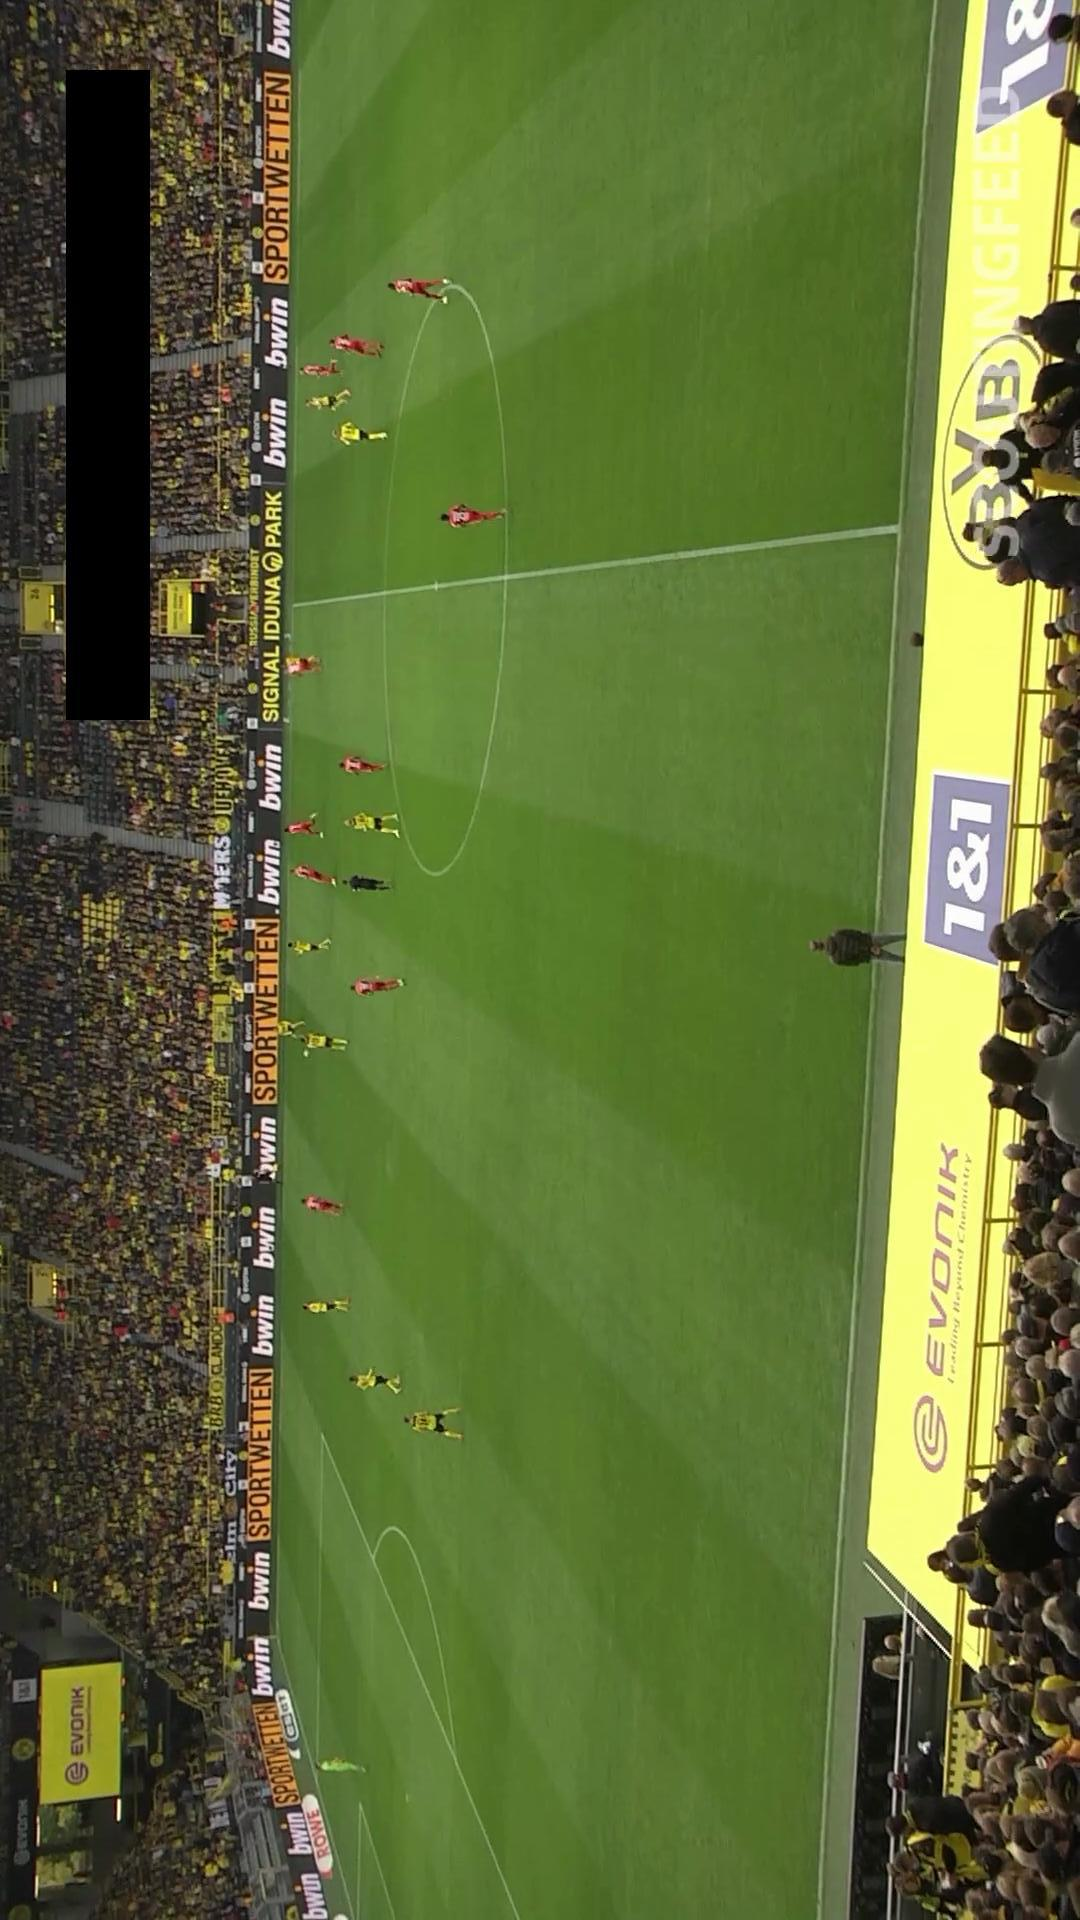ball: (302, 1049, 311, 1058)
goalkeeper: (314, 1755, 368, 1774)
player: (402, 1406, 463, 1441), (438, 503, 507, 529), (386, 277, 453, 303), (330, 419, 388, 447), (343, 810, 400, 837), (348, 1366, 402, 1394), (327, 334, 385, 359), (347, 977, 406, 997), (303, 388, 352, 412), (337, 754, 387, 775), (283, 811, 323, 837), (299, 1195, 345, 1217), (298, 1032, 350, 1051), (289, 864, 336, 885), (301, 1297, 350, 1314), (298, 360, 341, 378), (287, 937, 331, 954), (280, 652, 319, 669), (283, 660, 322, 676), (275, 1018, 306, 1038)
referee: (339, 874, 393, 892), (245, 1164, 285, 1185)
